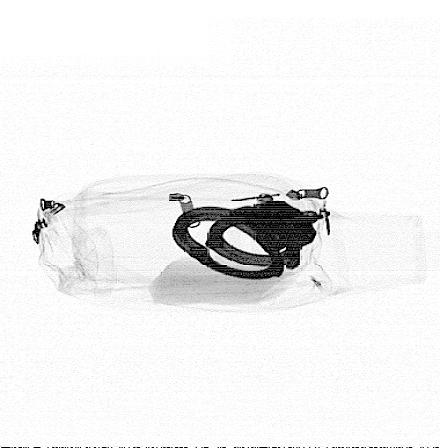HandCuffs: (168, 199, 332, 282)
